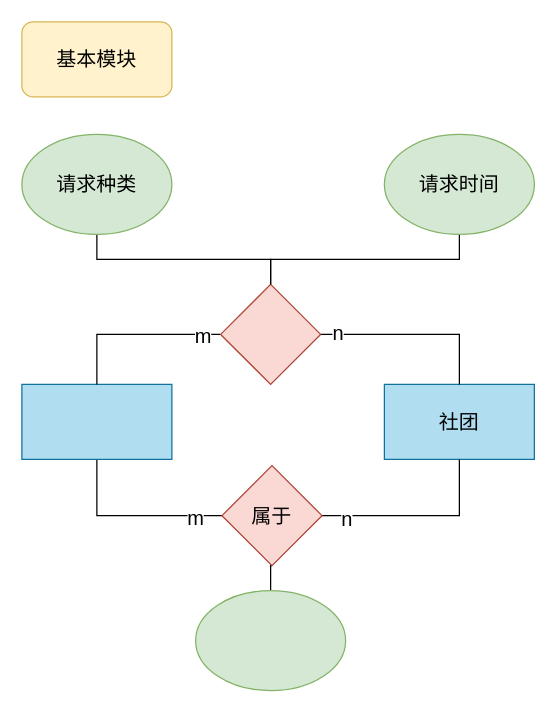
Some shapes in this 556 by 713 pixel diagram are drawn without their labels. The shapes that lost their labels are listed below. From the top down, each one's box as (x1, y1, x2, y2) in pixels, then its label:
(219, 283, 321, 384): 请求
(21, 383, 172, 459): 学生
(194, 589, 346, 691): 权限
